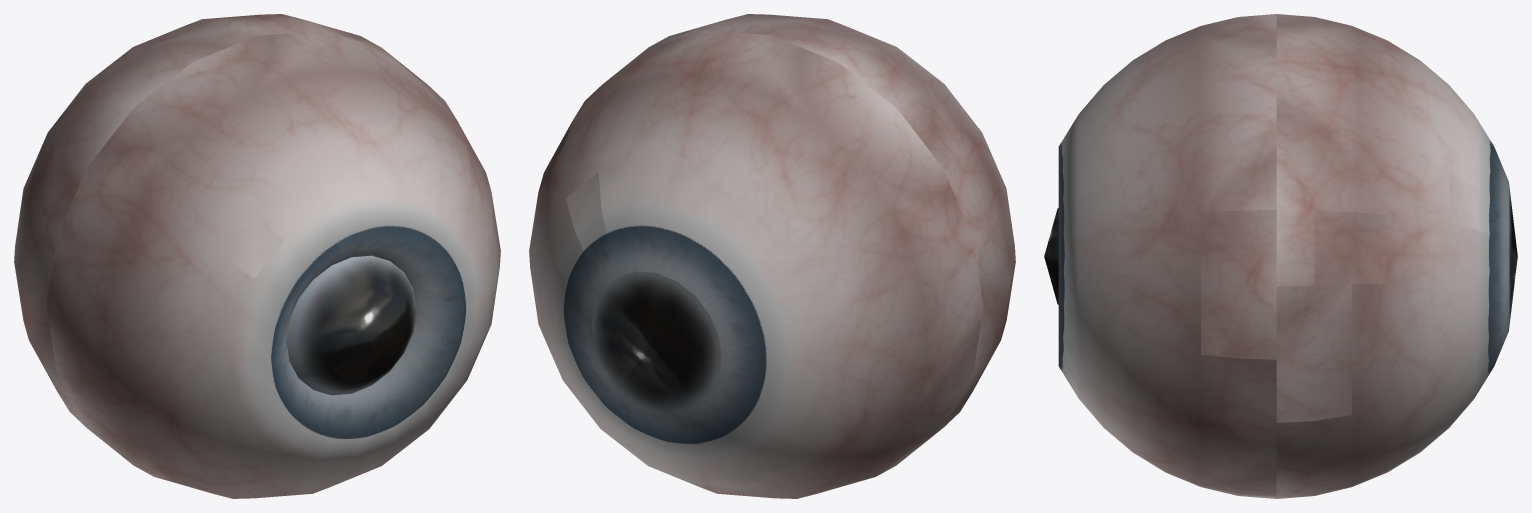
File: eyeWithText.fbx
3 renders of one model, left to right at view 1: azimuth 30°, elevation 25°; view 2: azimuth 150°, elevation 25°; view 3: azimuth 270°, elevation 25°, orthographic.
Parts seen in each view (by area): view 1: pSphere1; view 2: pSphere1; view 3: pSphere1.
Boxes of the visible parts, x1,y1,x2,y2 form: pSphere1: (14,14,500,498); pSphere1: (529,14,1015,498); pSphere1: (1044,14,1517,498).
Bounding box in the file's own units: 1.37 × 1.37 × 1.32.
